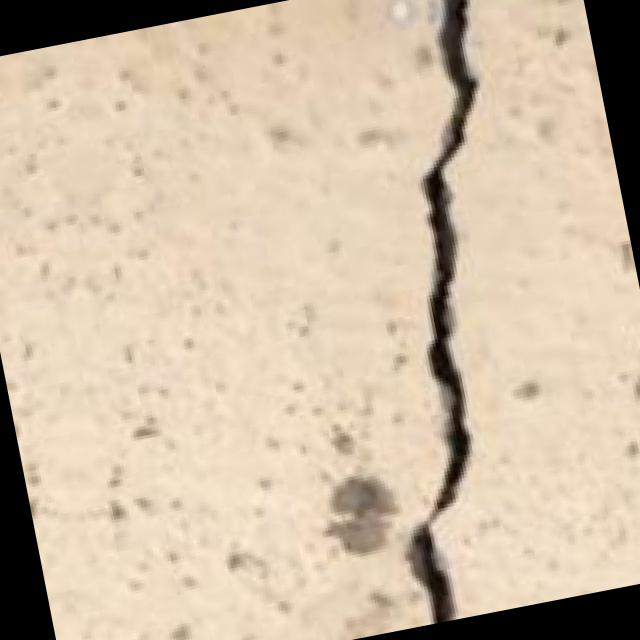crack: (249, 0, 609, 633)
